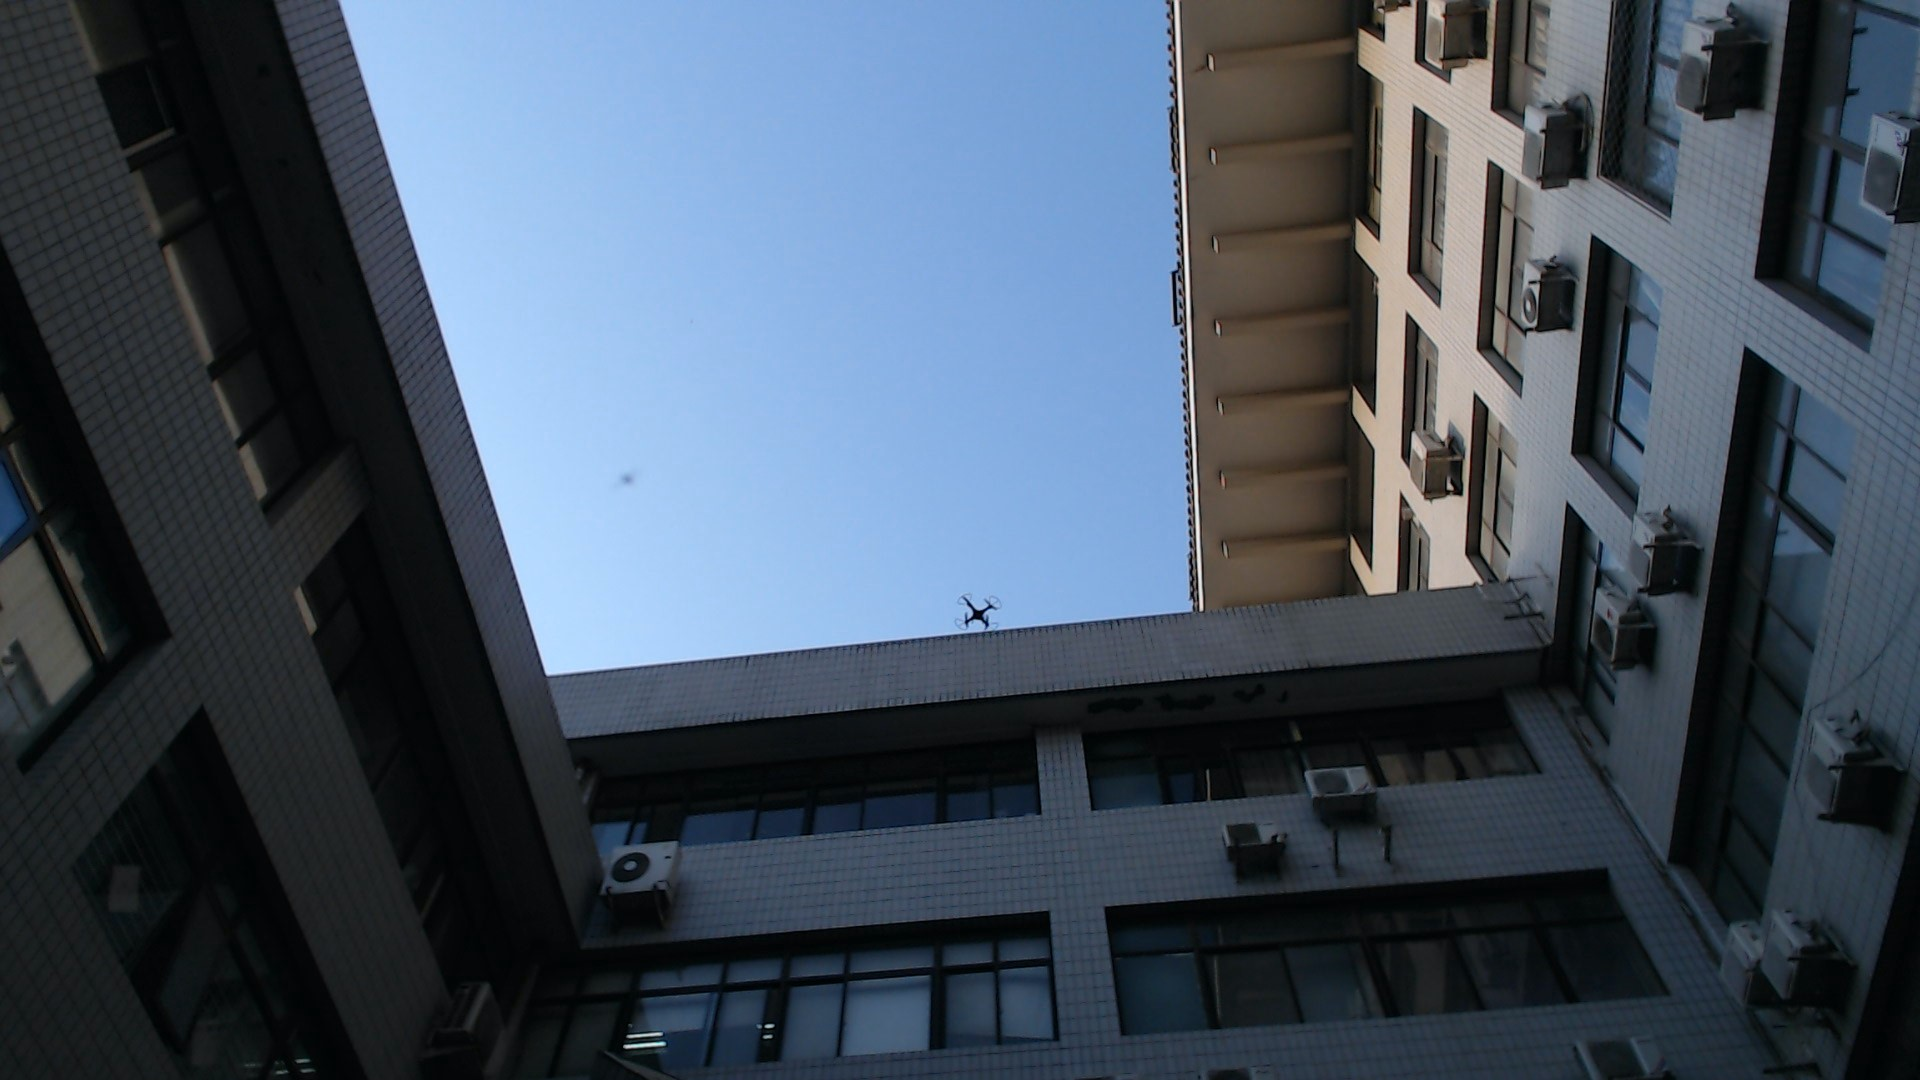drone: (942, 582, 1021, 640)
